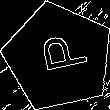P_W: (30, 34, 88, 80)
